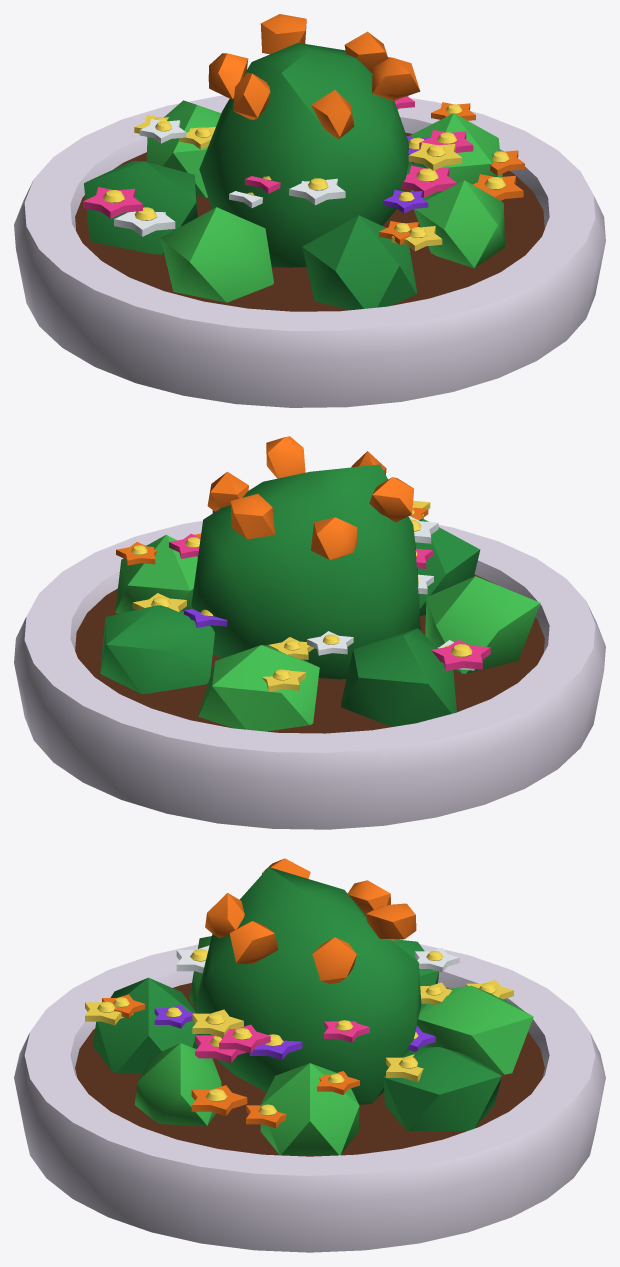
Rendered from lobby_planter.fbx.
3 renders of one model, top to bottom at view 1: azimuth 30°, elevation 25°; view 2: azimuth 150°, elevation 25°; view 3: azimuth 270°, elevation 25°, orthographic.
Parts seen in each view (by area): view 1: lobby_planter; view 2: lobby_planter; view 3: lobby_planter.
Boxes of the visible parts, box(x1,y1,x2,y2) form: lobby_planter: box(14, 14, 605, 407); lobby_planter: box(14, 436, 605, 829); lobby_planter: box(14, 858, 605, 1252).
Bounding box in the file's own units: 8.4 × 3.77 × 8.4.
Materials: 1 (1 with a texture image).
